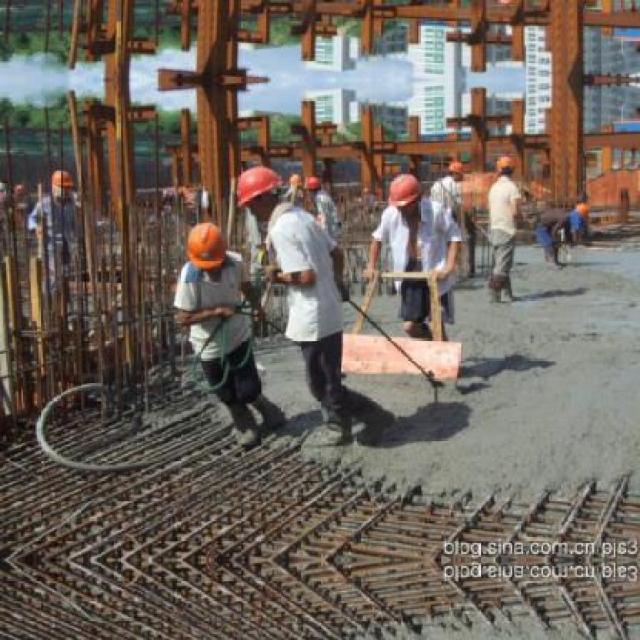helmet: (237, 166, 283, 222), (183, 221, 226, 268), (386, 170, 423, 215), (47, 168, 73, 198), (494, 152, 515, 180), (444, 159, 464, 183), (303, 174, 322, 198), (570, 200, 590, 222), (494, 0, 517, 9)
